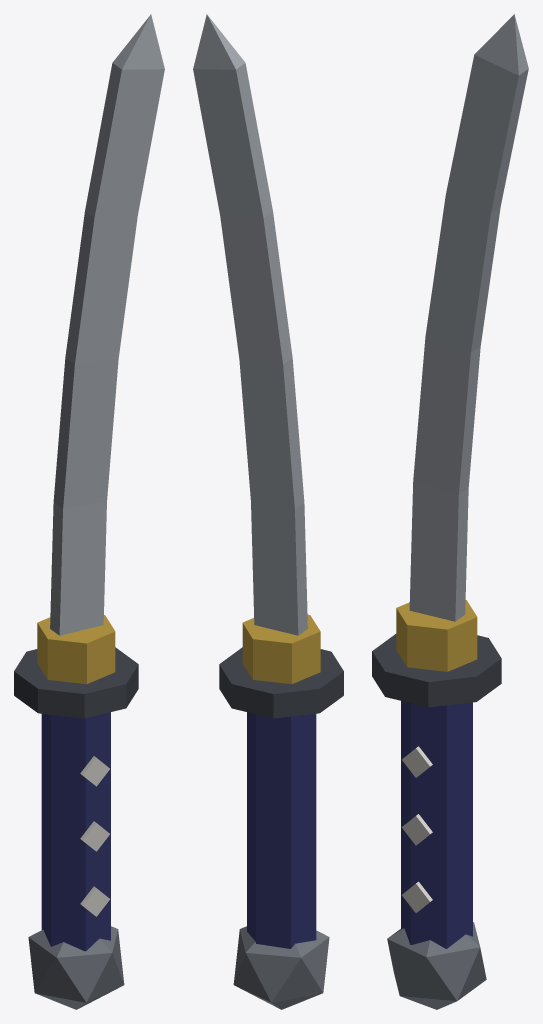
Rendered from weapon_twin_khopesh.glb.
3 renders of one model, left to right at view 1: azimuth 30°, elevation 25°; view 2: azimuth 150°, elevation 25°; view 3: azimuth 330°, elevation 25°, orthographic. The views are drawn at different scales.
Visible parts, largest first — view 1: macaque_weapon_twin_khopesh; view 2: macaque_weapon_twin_khopesh; view 3: macaque_weapon_twin_khopesh.
Part boxes in pixels (box(x1,y1,x2,y2)): macaque_weapon_twin_khopesh: box(14, 14, 164, 1009); macaque_weapon_twin_khopesh: box(193, 14, 343, 1009); macaque_weapon_twin_khopesh: box(372, 14, 528, 1009).
Bounding box in the file's own units: 0.1034 × 0.72 × 0.0776.
